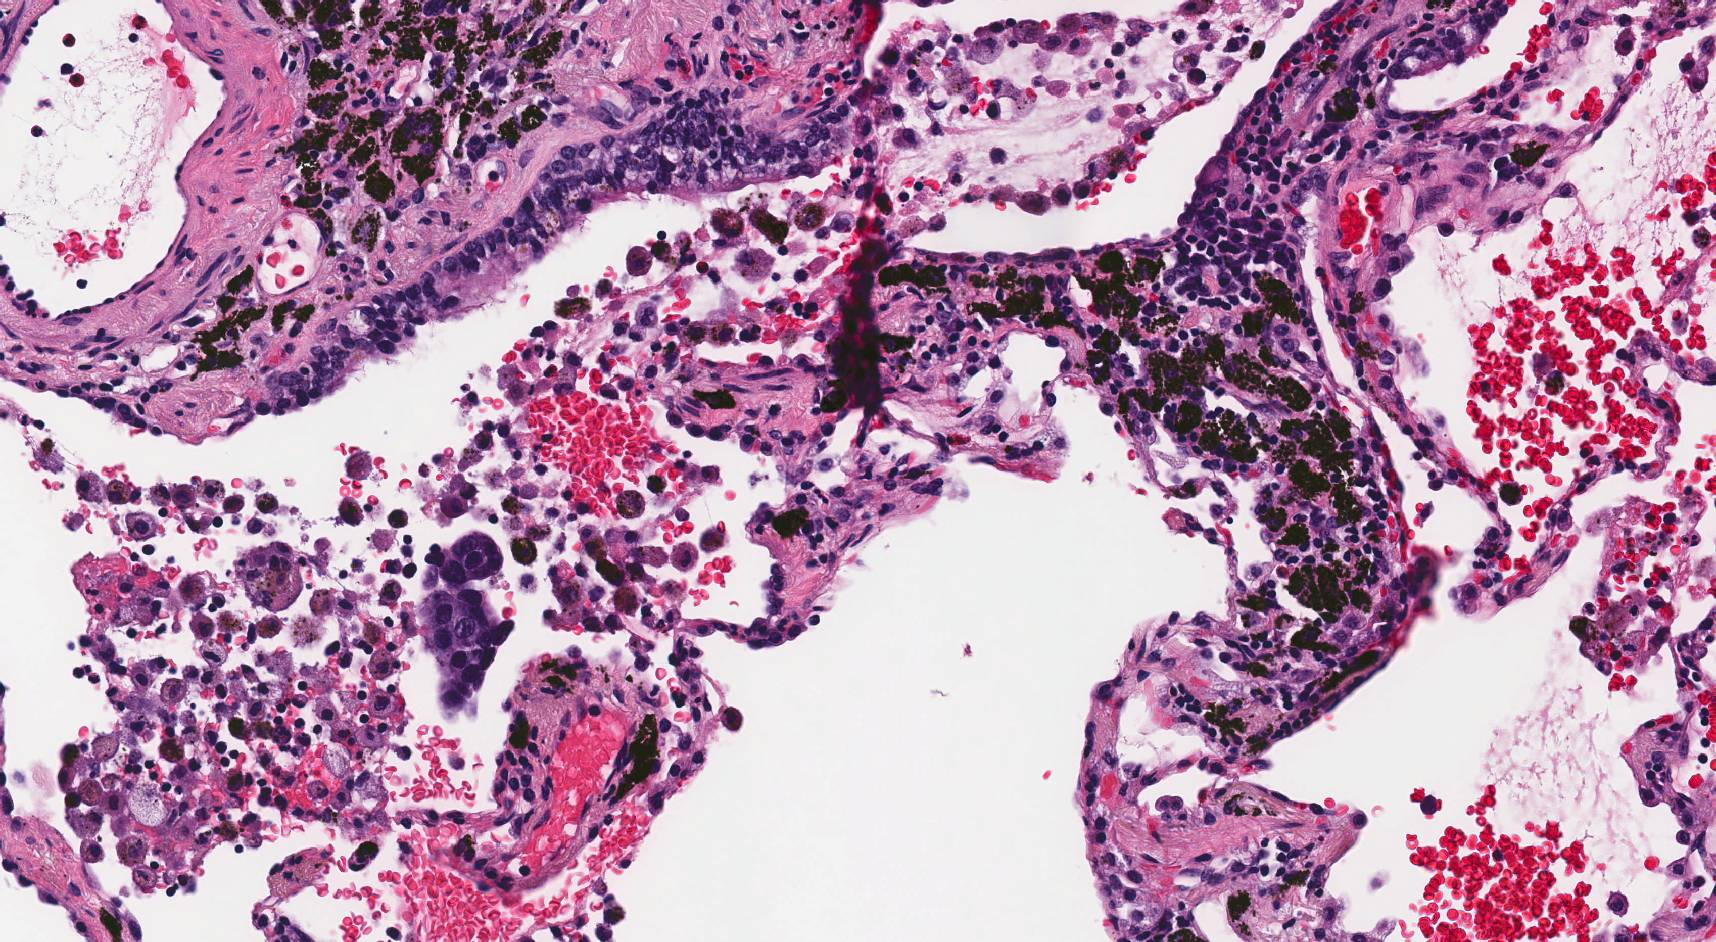stas: (420, 529, 517, 721)
